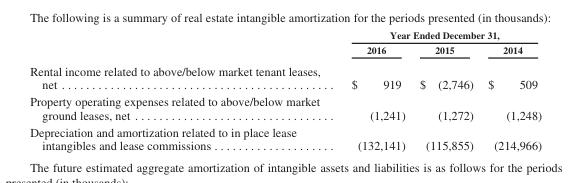table: (29, 29, 541, 151)
table column: (29, 29, 335, 151), (335, 29, 411, 151), (411, 29, 480, 151), (480, 29, 541, 151)
table column header: (29, 29, 541, 59)
table row: (29, 59, 541, 92), (29, 92, 541, 123), (29, 123, 541, 151), (29, 41, 541, 59), (29, 29, 541, 41)
table spanning cell: (335, 29, 541, 41)
